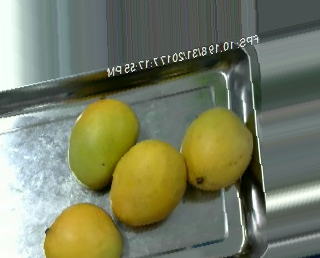Mango: (110, 139, 187, 225), (69, 99, 139, 190), (179, 107, 253, 191), (43, 202, 123, 257)
